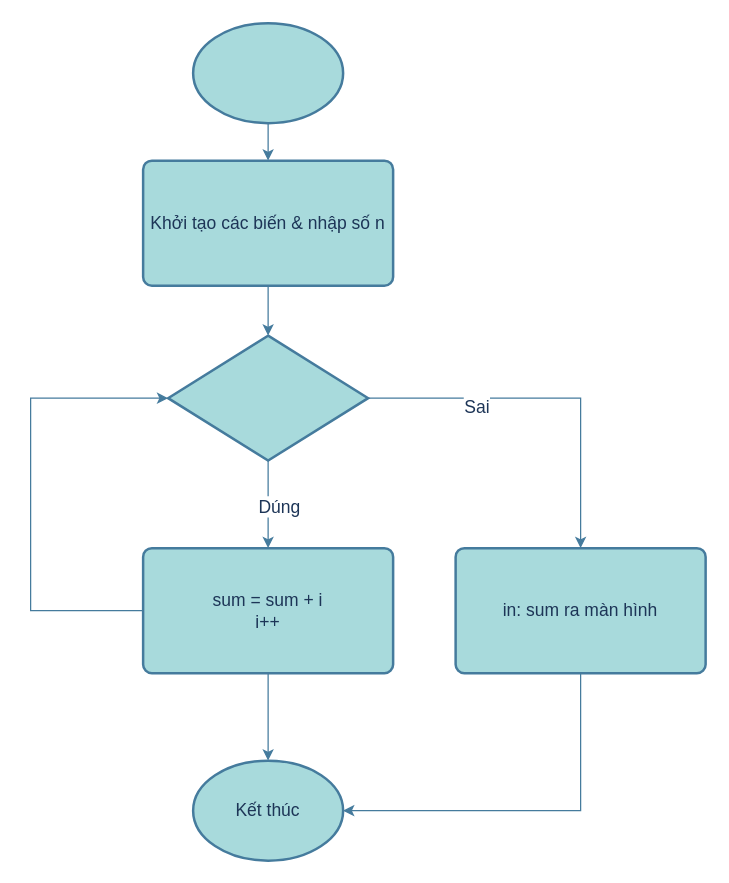
Some shapes in this 729 by 883 pixel diagram are drawn without their labels. The centre of each missing label's shape, as x and y in pixels:
Bắt đầu: point 267,72
for i<=n: point 267,397
